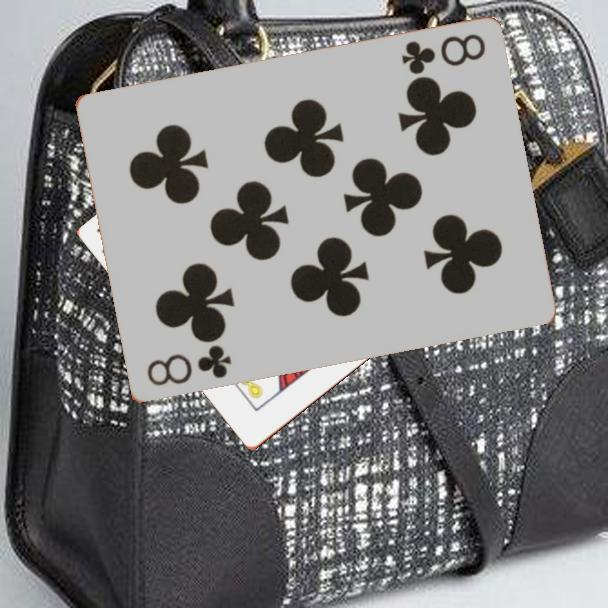c08: (143, 342, 234, 390), (397, 31, 488, 78)
